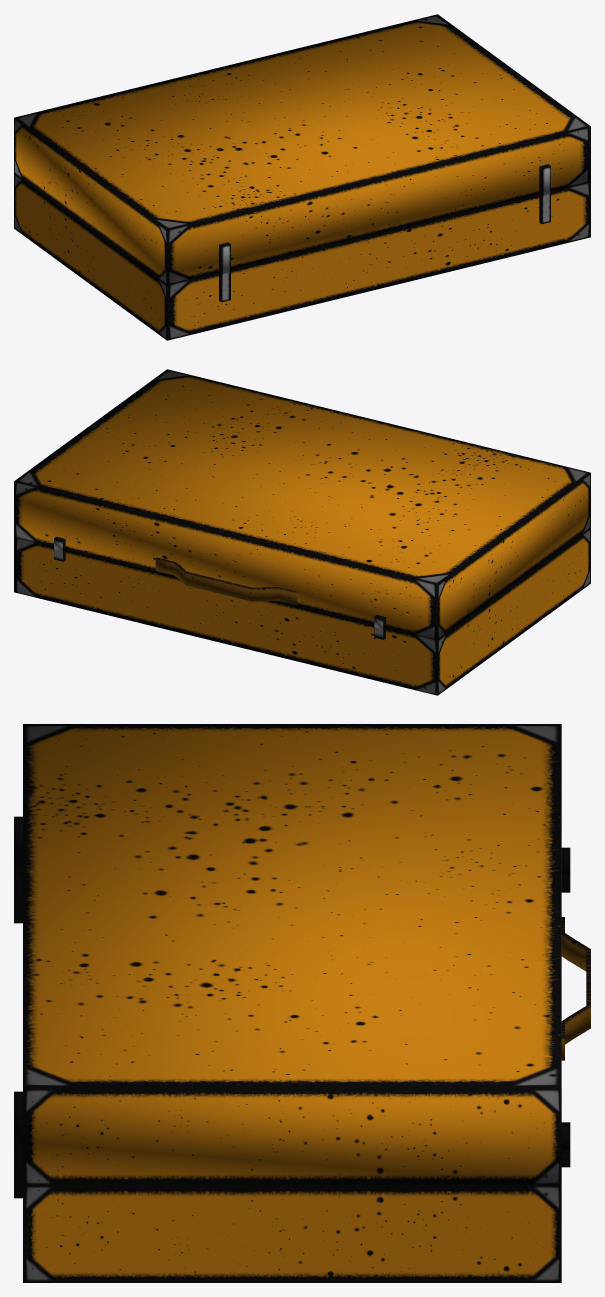
Rendered from old_briefcase.obj.
3 views of the same model, one above another, from view 1: azimuth 30°, elevation 25°; view 2: azimuth 150°, elevation 25°; view 3: azimuth 270°, elevation 25° (orthographic). The views are drawn at different scales.
Visible parts, largest first — view 1: Cube, Cube.001; view 2: Cube, Cube.001; view 3: Cube, Cube.001.
Part boxes in pixels (x1,y1,x2,y2): Cube: [14, 14, 590, 285]; Cube.001: [14, 173, 590, 340]; Cube: [14, 369, 590, 640]; Cube.001: [14, 528, 590, 695]; Cube: [14, 724, 590, 1184]; Cube.001: [14, 874, 570, 1282].
Size of the model in its own units: 3.19 by 0.7991 by 2.14.
